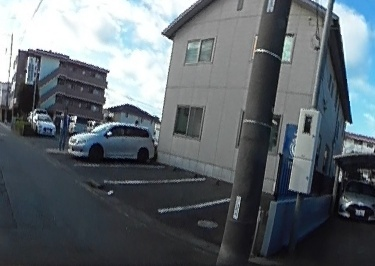person: (56, 106, 70, 149)
